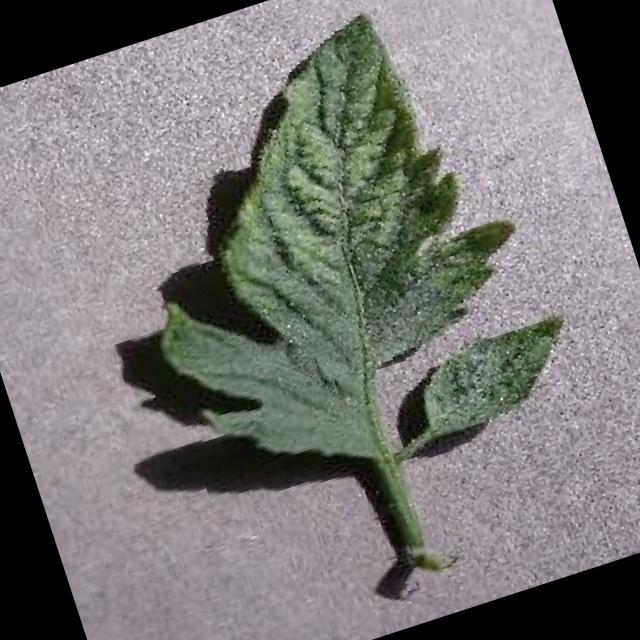Tomato mosaic virus leaf: (89, 0, 591, 519)
